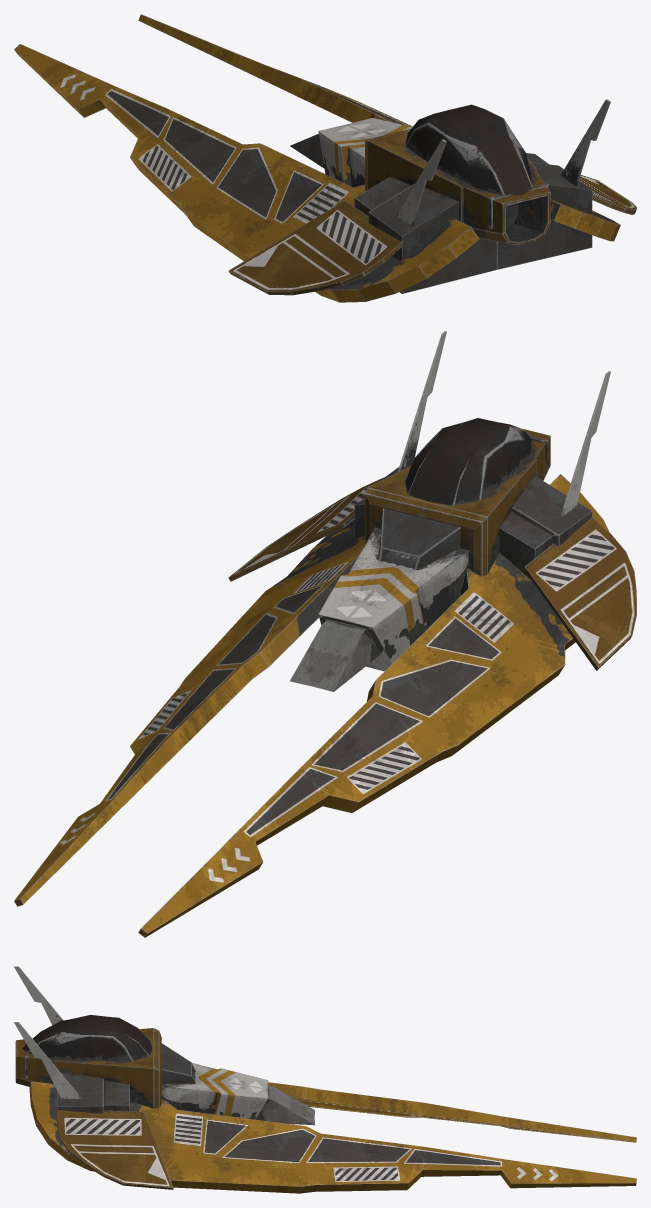
The model's file is quaternius-dispatcher.glb.
3 renders of one model, top to bottom at view 1: azimuth 30°, elevation 25°; view 2: azimuth 150°, elevation 25°; view 3: azimuth 270°, elevation 25°, orthographic. The views are drawn at different scales.
Visible parts, largest first — view 1: Dispatcher; view 2: Dispatcher; view 3: Dispatcher.
Boxes of the visible parts, bbox=[...] form: Dispatcher: bbox=[14, 14, 636, 302]; Dispatcher: bbox=[14, 331, 636, 937]; Dispatcher: bbox=[14, 966, 636, 1193].
Bounding box in the file's own units: 4.9 × 3.09 × 10.26.
Materials: 1 (1 with a texture image).
